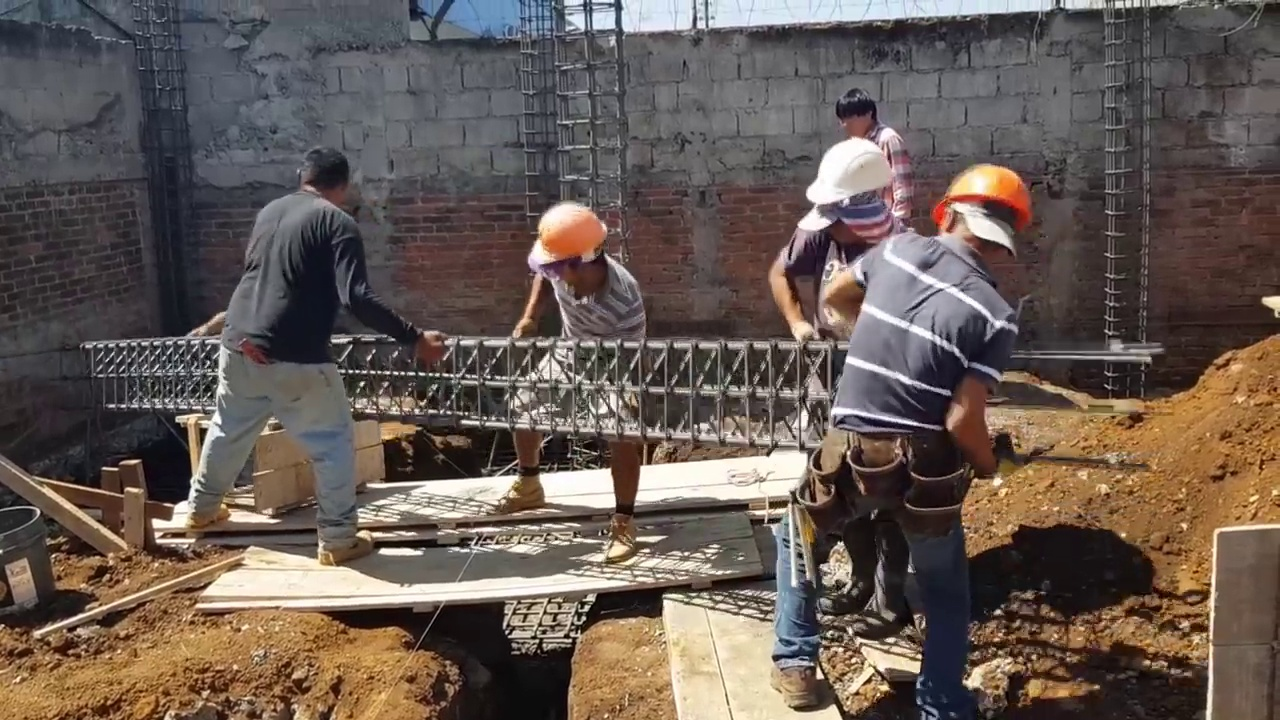helmet: (938, 163, 1032, 245), (809, 136, 898, 205), (528, 206, 605, 274)
helmet-off: (295, 148, 352, 208), (837, 92, 885, 139)
helmet-on: (930, 155, 1039, 282), (798, 122, 897, 240), (526, 206, 614, 298)
person: (777, 155, 1037, 699), (191, 135, 432, 574), (495, 196, 646, 539), (776, 122, 904, 343), (831, 85, 917, 231)
